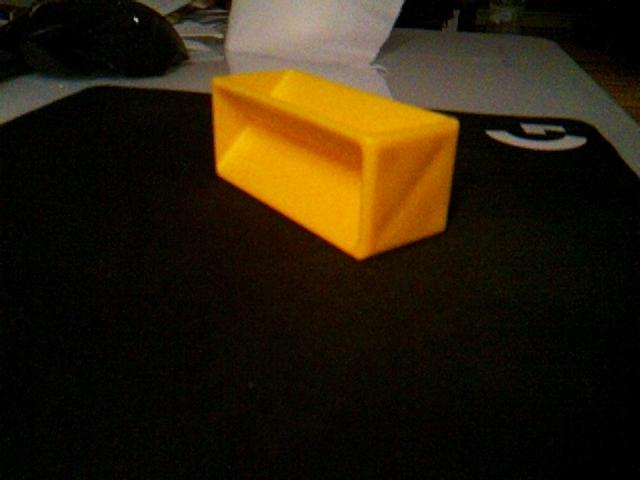yellow: (210, 67, 461, 262)
